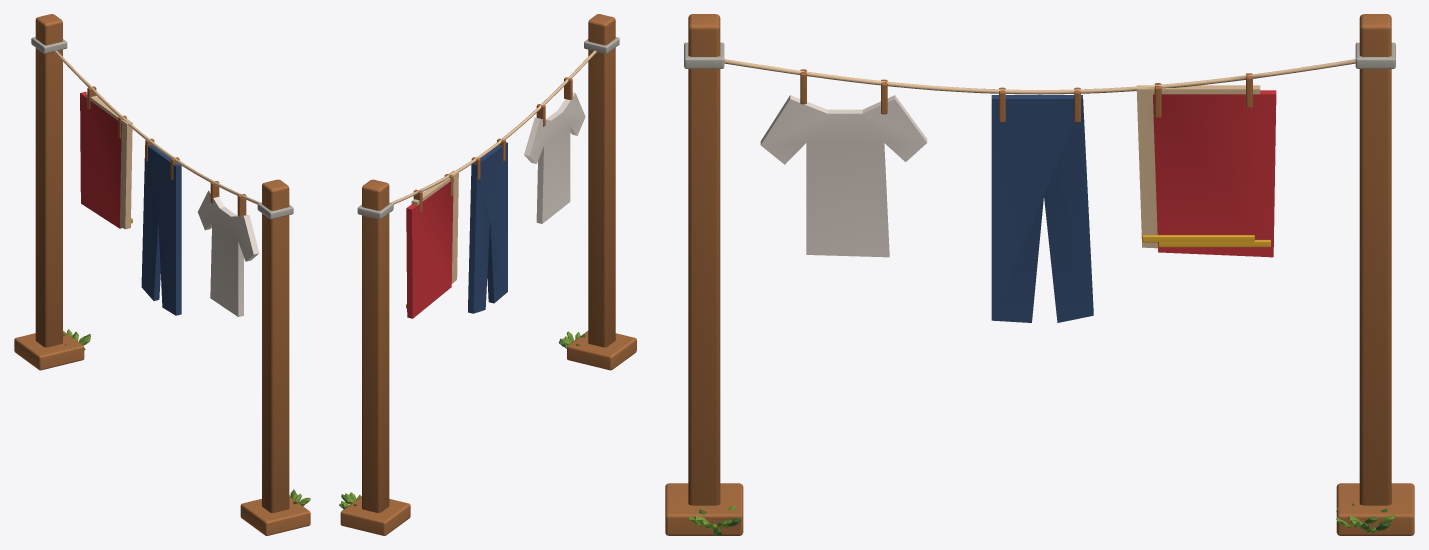
File: prop.laundry-line.glb
3 views of the same model, side by side, from view 1: azimuth 30°, elevation 25°; view 2: azimuth 150°, elevation 25°; view 3: azimuth 270°, elevation 25° (orthographic). The views are drawn at different scales.
Size of the model in its own units: 0.3835 by 2.06 by 2.79.
